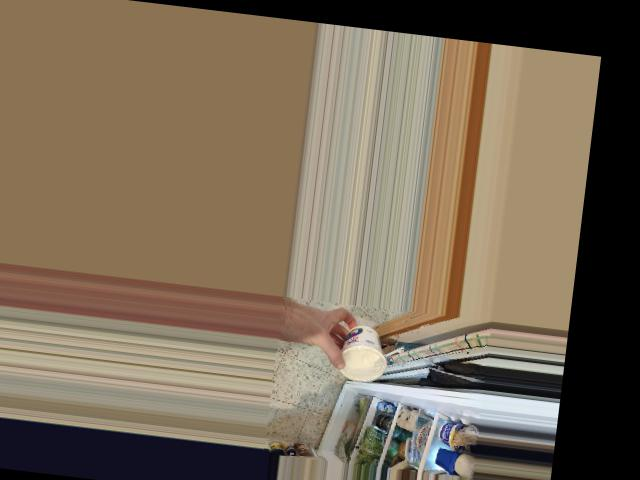cotage: (336, 325, 386, 383)
